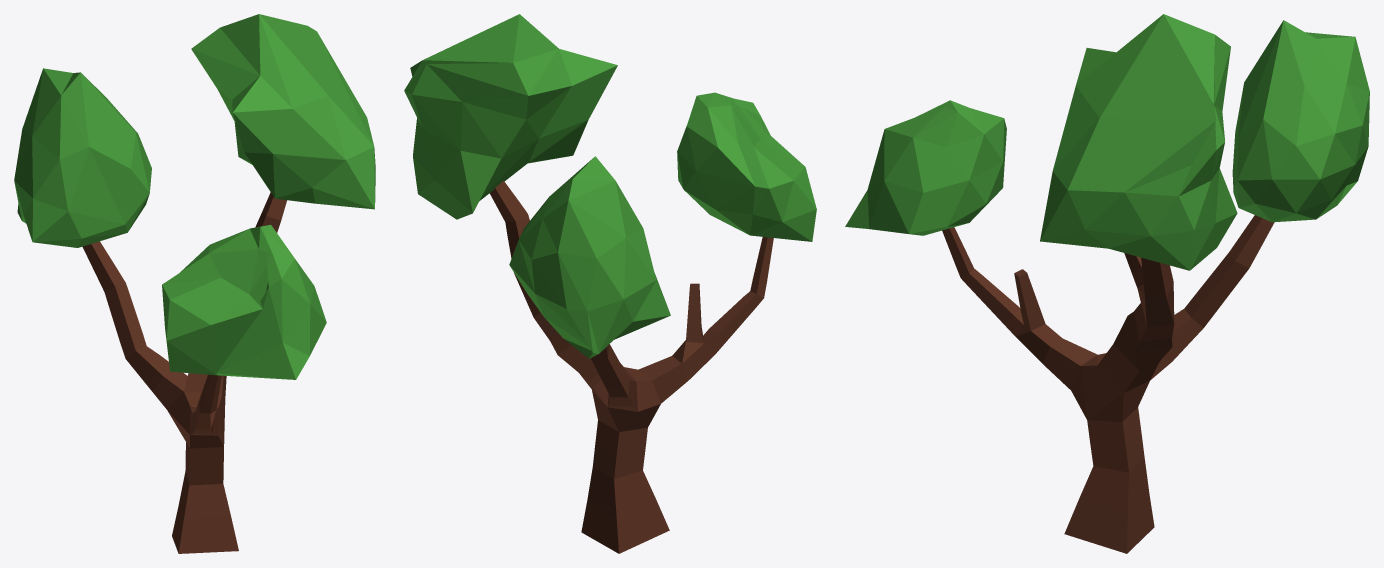
The model's file is tree.glb.
The picture shows the model from 3 angles, left to right: view 1: azimuth 30°, elevation 25°; view 2: azimuth 150°, elevation 25°; view 3: azimuth 270°, elevation 25°; orthographic projection. The views are drawn at different scales.
Parts seen in each view (by area): view 1: Icosphere.002, Icosphere.001, Icosphere.003, Cube; view 2: Icosphere.002, Cube, Icosphere.003, Icosphere.001; view 3: Icosphere.002, Cube, Icosphere.003, Icosphere.001.
Boxes of the visible parts, x1=… form: Icosphere.002: x1=191, y1=14, x2=375, y2=209; Icosphere.001: x1=162, y1=224, x2=326, y2=379; Icosphere.003: x1=14, y1=68, x2=151, y2=247; Cube: x1=82, y1=192, x2=286, y2=553; Icosphere.002: x1=404, y1=14, x2=617, y2=219; Cube: x1=489, y1=180, x2=773, y2=553; Icosphere.003: x1=509, y1=156, x2=670, y2=358; Icosphere.001: x1=677, y1=92, x2=816, y2=241; Icosphere.002: x1=1040, y1=14, x2=1237, y2=270; Cube: x1=942, y1=215, x2=1274, y2=553; Icosphere.003: x1=1232, y1=20, x2=1369, y2=222; Icosphere.001: x1=845, y1=100, x2=1006, y2=235.
Size of the model in its own units: 4.74 by 7.99 by 6.74.
